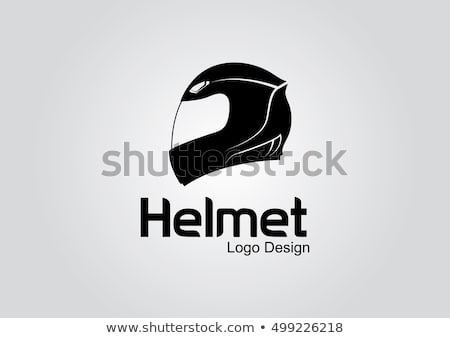with_helmet: (162, 57, 294, 187)
